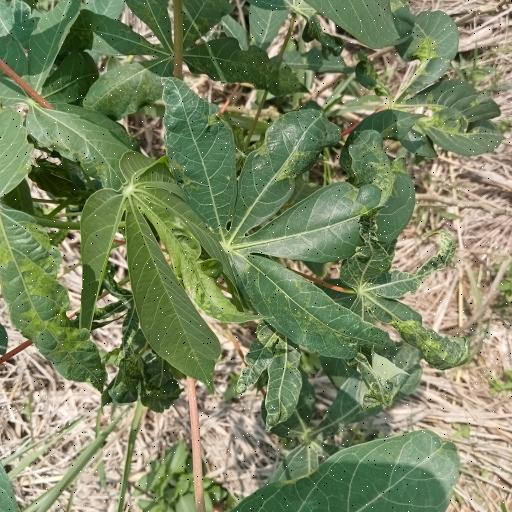Cassava_Mosaic: (164, 84, 406, 351), (89, 145, 265, 369)
